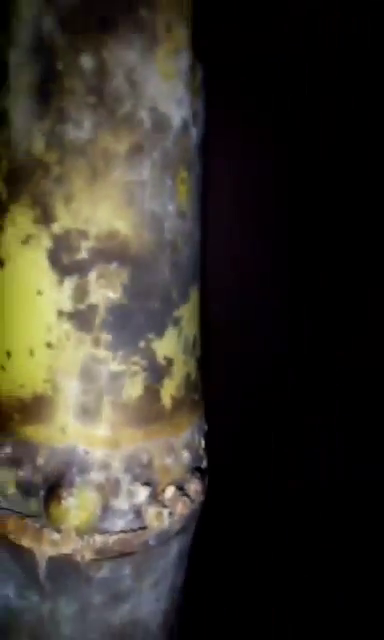cane eye: (43, 478, 106, 536)
